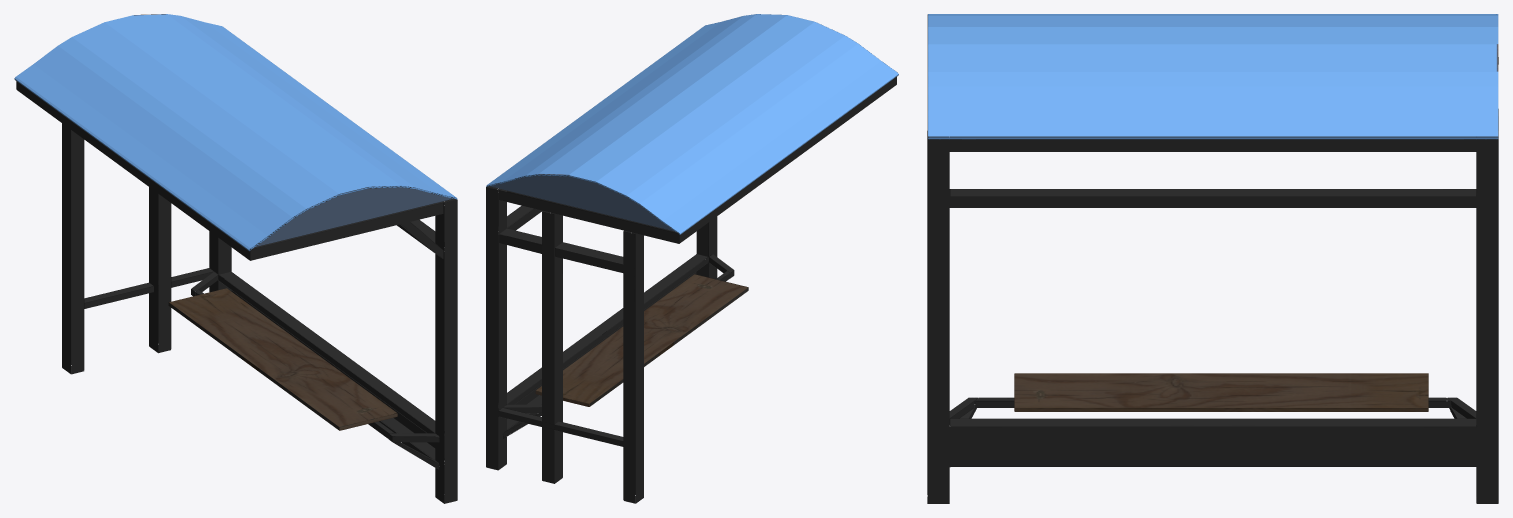
The model's file is BusStop.fbx.
The picture shows the model from 3 angles, left to right: view 1: azimuth 30°, elevation 25°; view 2: azimuth 150°, elevation 25°; view 3: azimuth 270°, elevation 25°; orthographic projection. The views are drawn at different scales.
Parts seen in each view (by area): view 1: Cube; view 2: Cube; view 3: Cube.
Part boxes in pixels (<box>): Cube: <box>14,14,457,503</box>; Cube: <box>486,14,898,503</box>; Cube: <box>927,14,1498,503</box>.
Size of the model in its own units: 261 by 402 by 511.
Materials: 4 (4 with a texture image).
